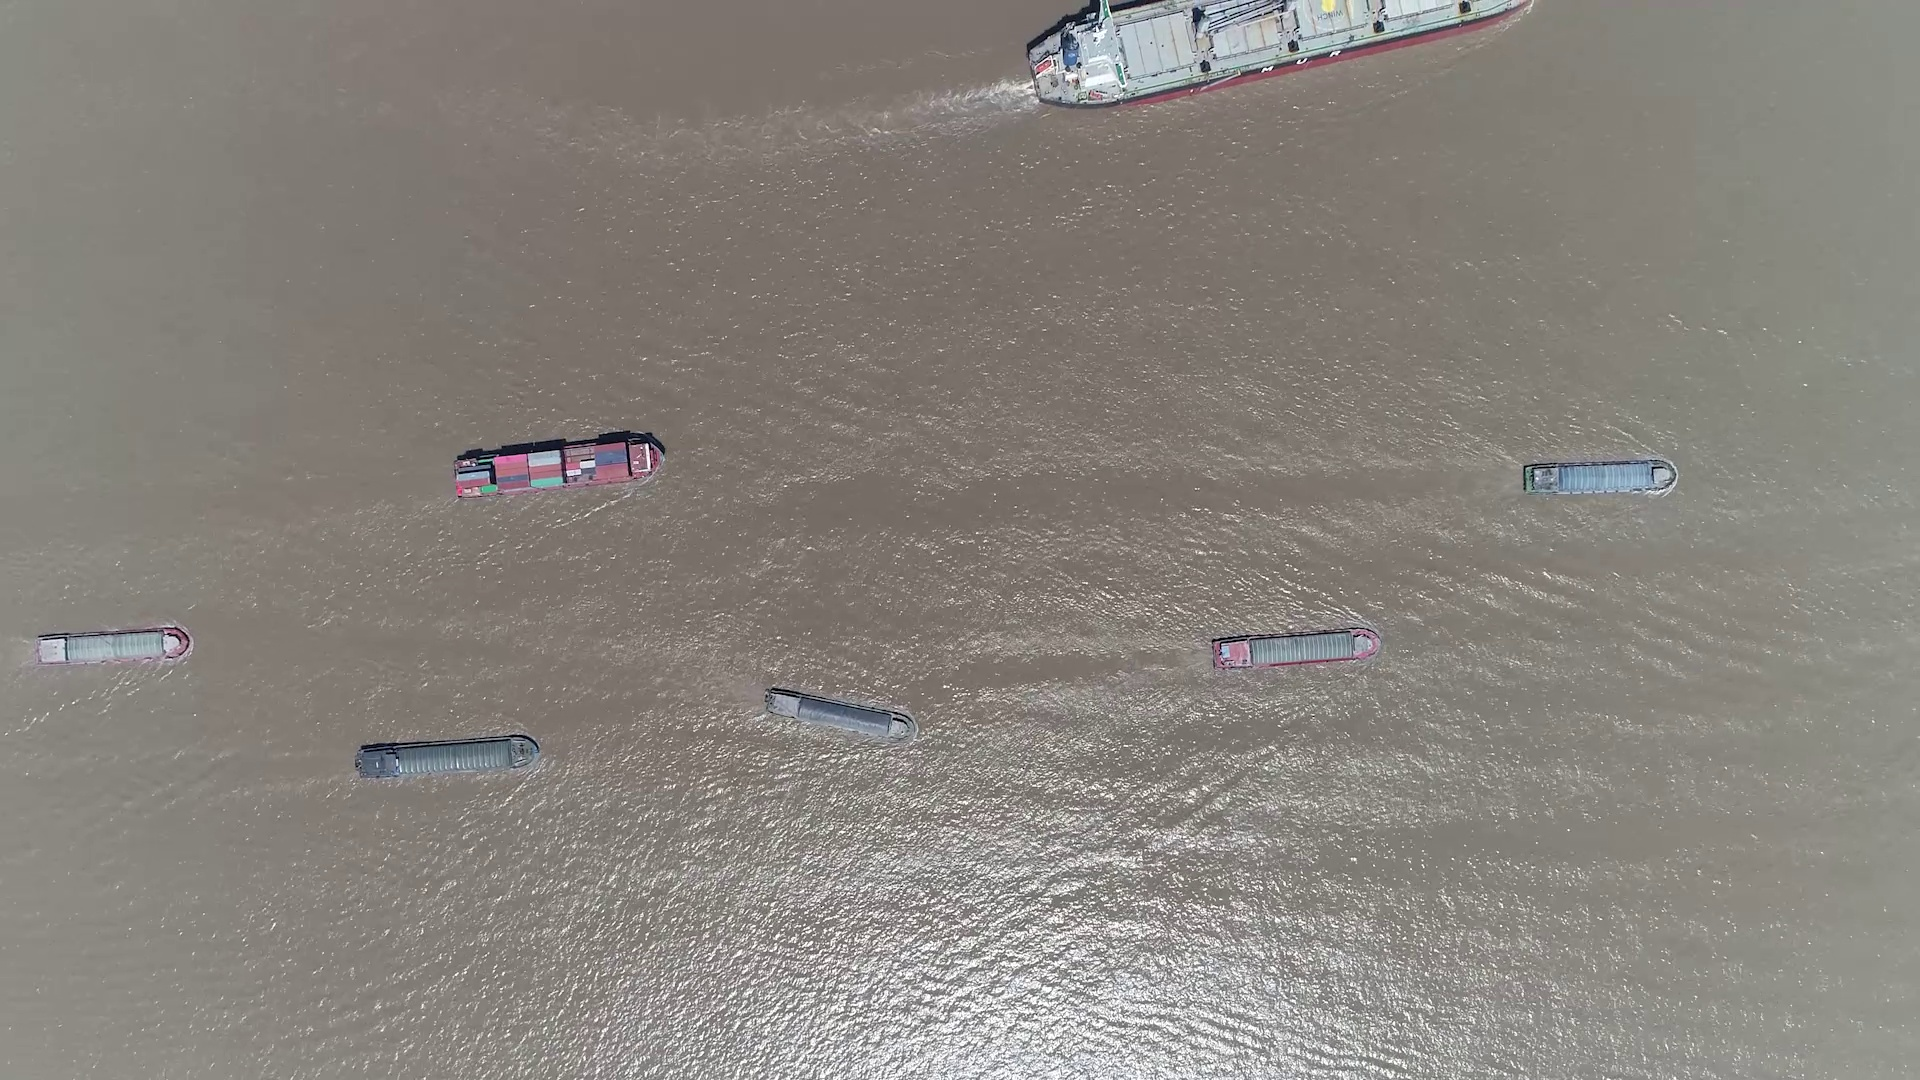ship: (1025, 3, 1524, 109), (451, 433, 665, 500), (356, 733, 541, 781), (764, 686, 915, 742), (1209, 626, 1382, 673), (34, 628, 191, 666), (1523, 462, 1675, 495)
